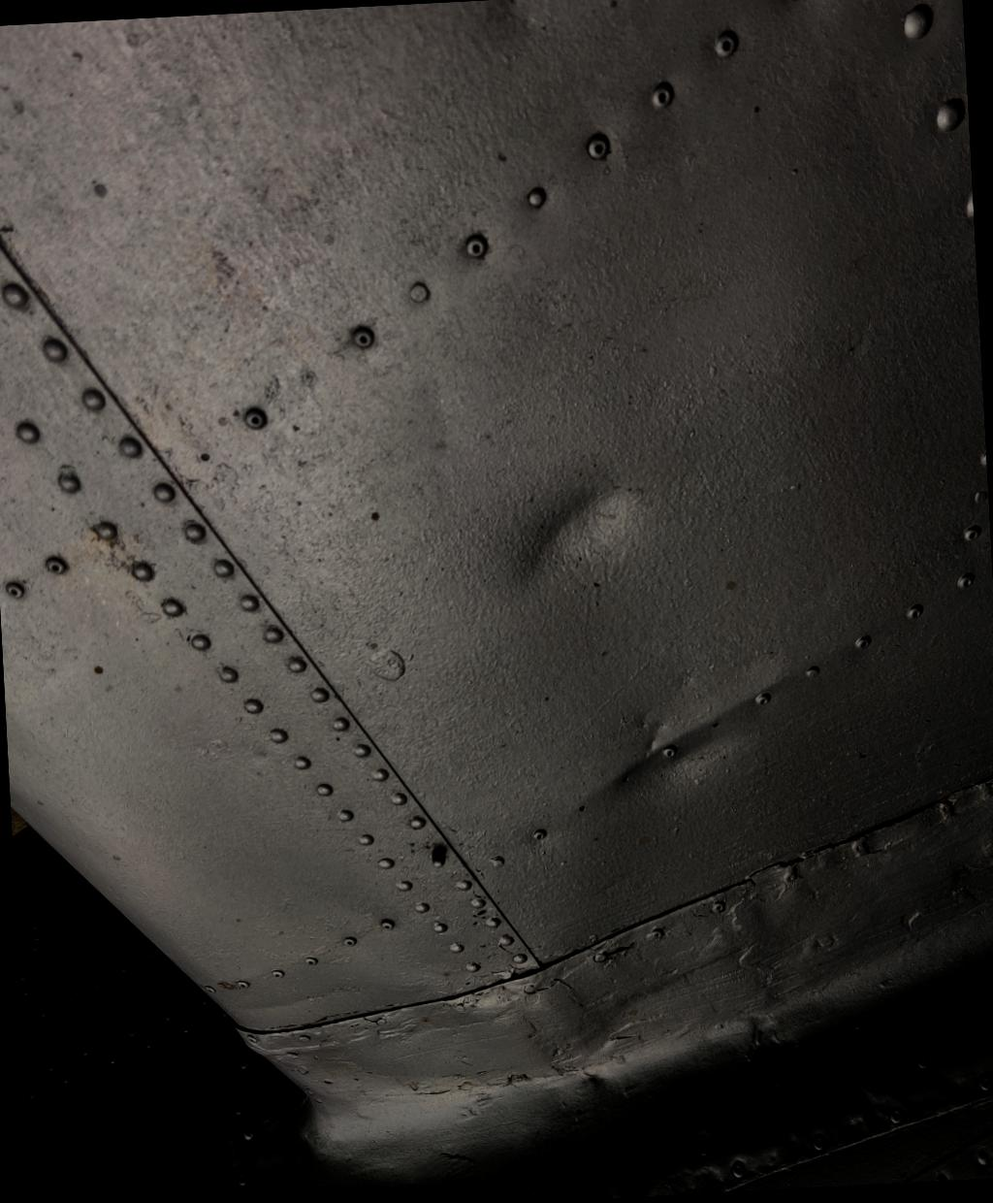dent: (466, 424, 669, 665), (570, 660, 768, 878)
